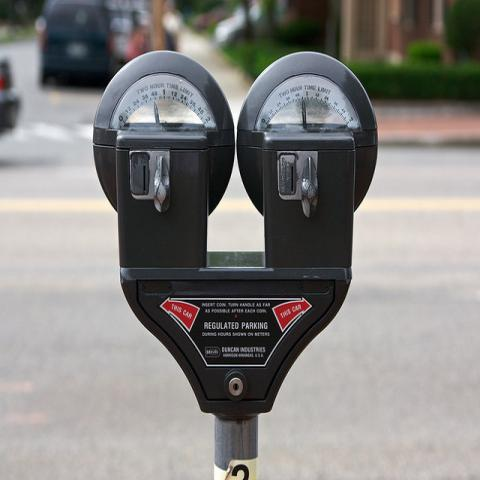car: (38, 0, 151, 88), (0, 54, 23, 133)
